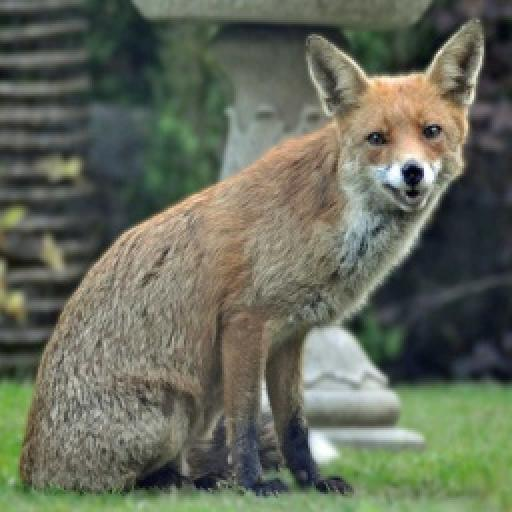zorro: (20, 24, 482, 494)
